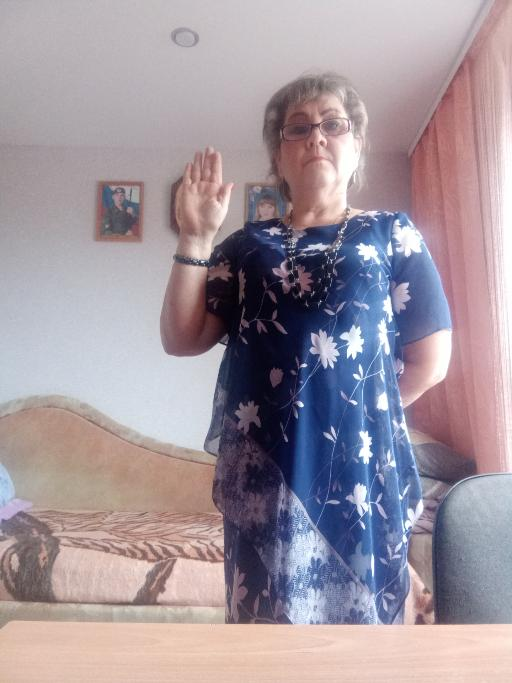stop: (169, 142, 239, 240)
